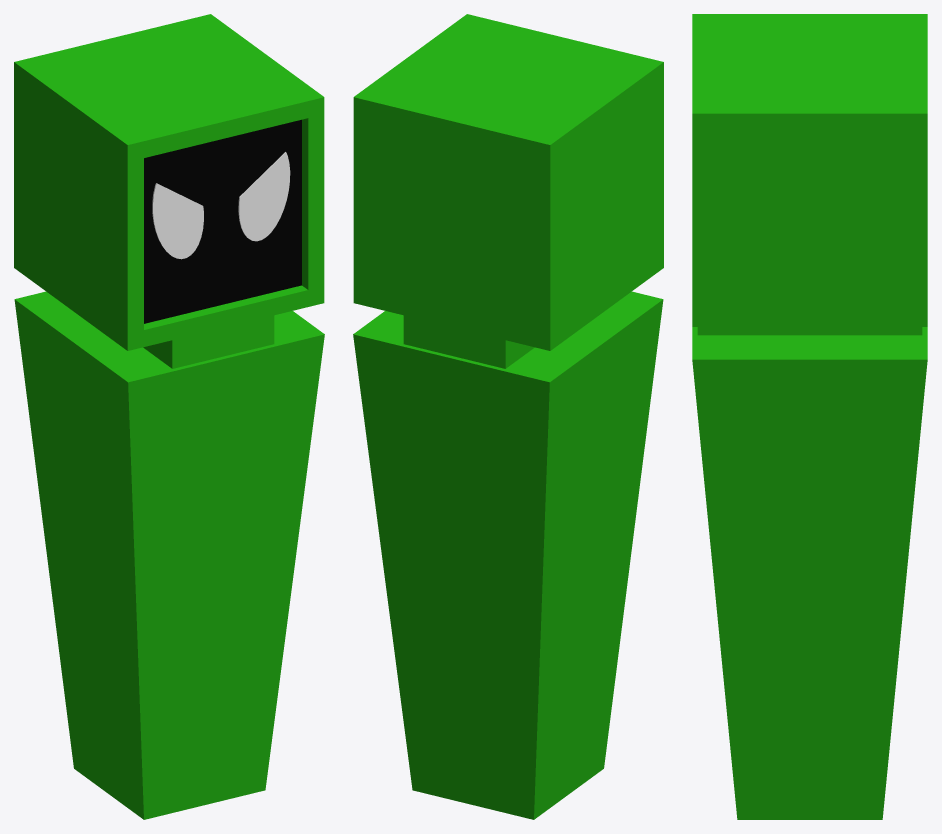
Rendered from enemy.fbx.
3 renders of one model, left to right at view 1: azimuth 30°, elevation 25°; view 2: azimuth 150°, elevation 25°; view 3: azimuth 270°, elevation 25°, orthographic. The views are drawn at different scales.
Parts seen in each view (by area): view 1: Cube.002, Cube, Cube.001, Circle.001, Circle; view 2: Cube.002, Cube, Cube.001; view 3: Cube.002, Cube, Cube.001.
Boxes of the visible parts, x1=… form: Cube.002: x1=14, y1=291, x2=324, y2=819; Cube: x1=14, y1=14, x2=324, y2=350; Cube.001: x1=143, y1=315, x2=274, y2=368; Circle.001: x1=238, y1=152, x2=290, y2=241; Circle: x1=152, y1=183, x2=203, y2=259; Cube.002: x1=353, y1=291, x2=663, y2=819; Cube: x1=353, y1=14, x2=663, y2=350; Cube.001: x1=403, y1=315, x2=534, y2=368; Cube.002: x1=692, y1=327, x2=927, y2=819; Cube: x1=692, y1=14, x2=927, y2=326; Cube.001: x1=697, y1=327, x2=922, y2=335.
Bounding box in the file's own units: 200 × 680 × 200.
